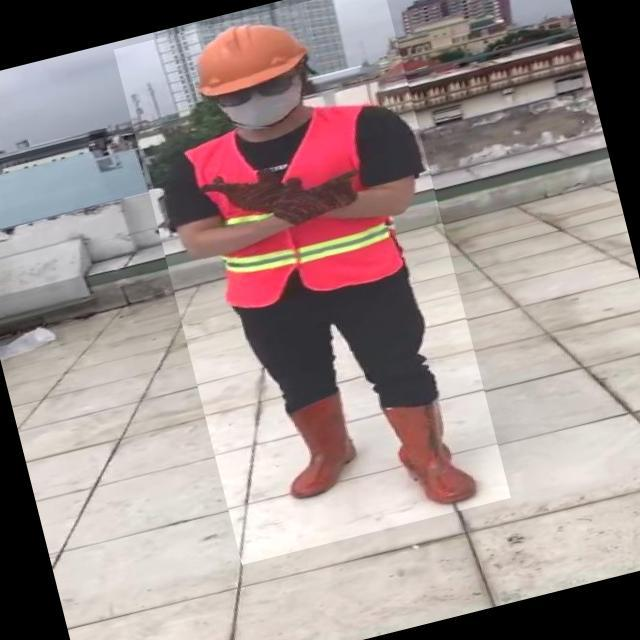Gloves: (218, 162, 307, 219), (287, 175, 364, 222)
Helmet: (181, 6, 320, 103)
Human: (114, 0, 512, 565)
Safety Boot: (382, 388, 480, 514), (273, 392, 369, 502)
Safety Vest: (180, 100, 411, 320)
